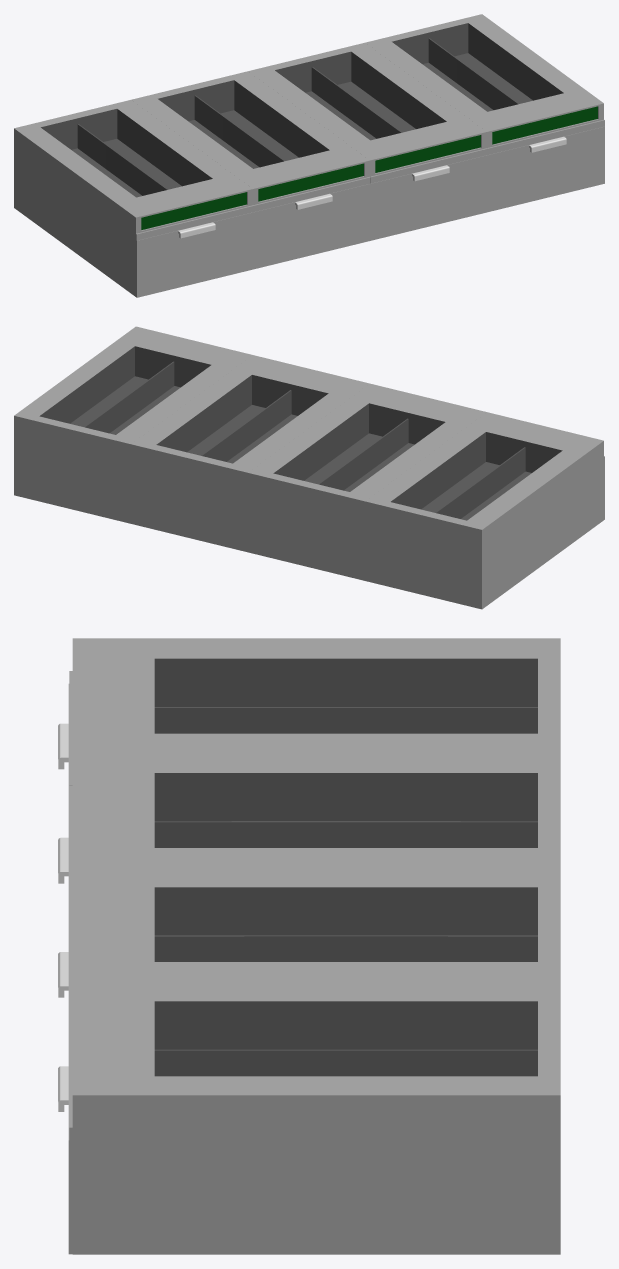
The model's file is tesarfi19_Friteza.fbx.
3 renders of one model, top to bottom at view 1: azimuth 30°, elevation 25°; view 2: azimuth 150°, elevation 25°; view 3: azimuth 270°, elevation 25°, orthographic. The views are drawn at different scales.
Parts seen in each view (by area): view 1: polySurface16, polySurface18, polySurface17, polySurface19, polySurface1, polySurface8, polySurface5, polySurface11, polySurface2, polySurface10, polySurface4, polySurface7; view 2: polySurface16, polySurface19, polySurface17, polySurface18; view 3: polySurface19, polySurface16, polySurface17, polySurface18, polySurface10.
Boxes of the visible parts, x1,y1,x2,y2 form: polySurface16: (14,100,253,296); polySurface18: (248,42,487,183); polySurface17: (131,71,370,211); polySurface19: (365,14,604,154); polySurface1: (136,226,197,297); polySurface8: (371,169,431,240); polySurface5: (254,198,314,269); polySurface11: (488,141,548,211); polySurface2: (195,212,253,283); polySurface10: (546,126,604,197); polySurface4: (312,183,370,254); polySurface7: (429,155,487,226); polySurface16: (365,412,604,609); polySurface19: (14,326,252,523); polySurface17: (248,383,486,580); polySurface18: (131,355,369,552); polySurface19: (69,981,560,1254); polySurface16: (69,638,560,785); polySurface17: (69,752,560,899); polySurface18: (69,867,560,1013); polySurface10: (58,1083,72,1254).
Bounding box in the file's own units: 5.54 × 0.9 × 2.57.
